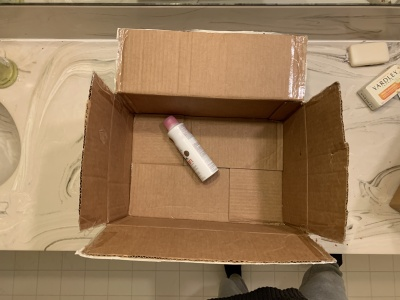innerbox: (110, 93, 308, 235)
outerbox: (82, 29, 341, 262), (165, 118, 212, 177)
